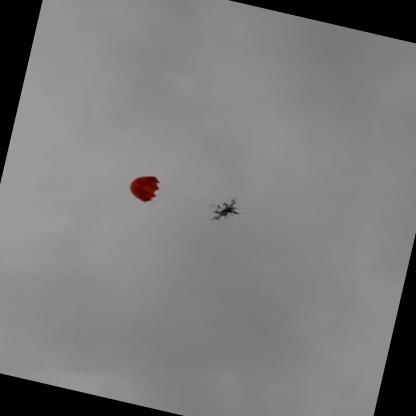drone: (207, 190, 244, 229)
